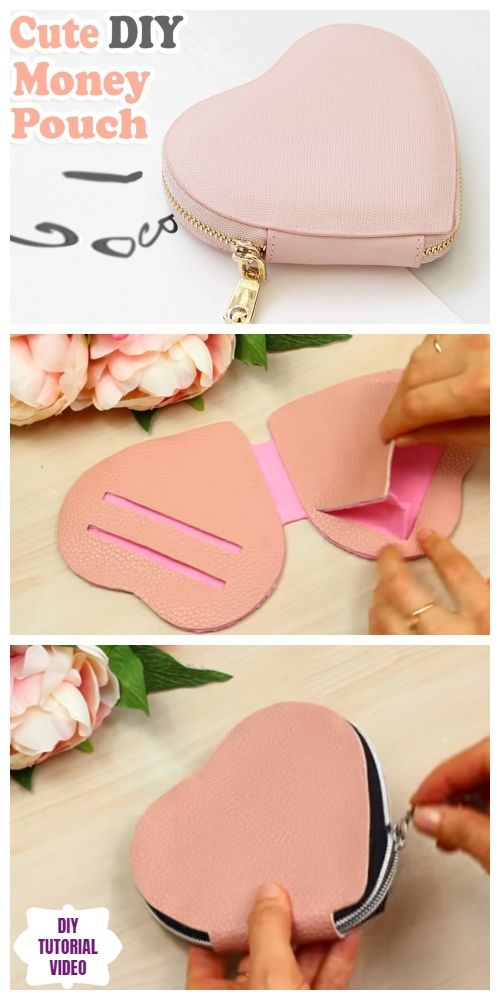cuero: (54, 26, 459, 951)
